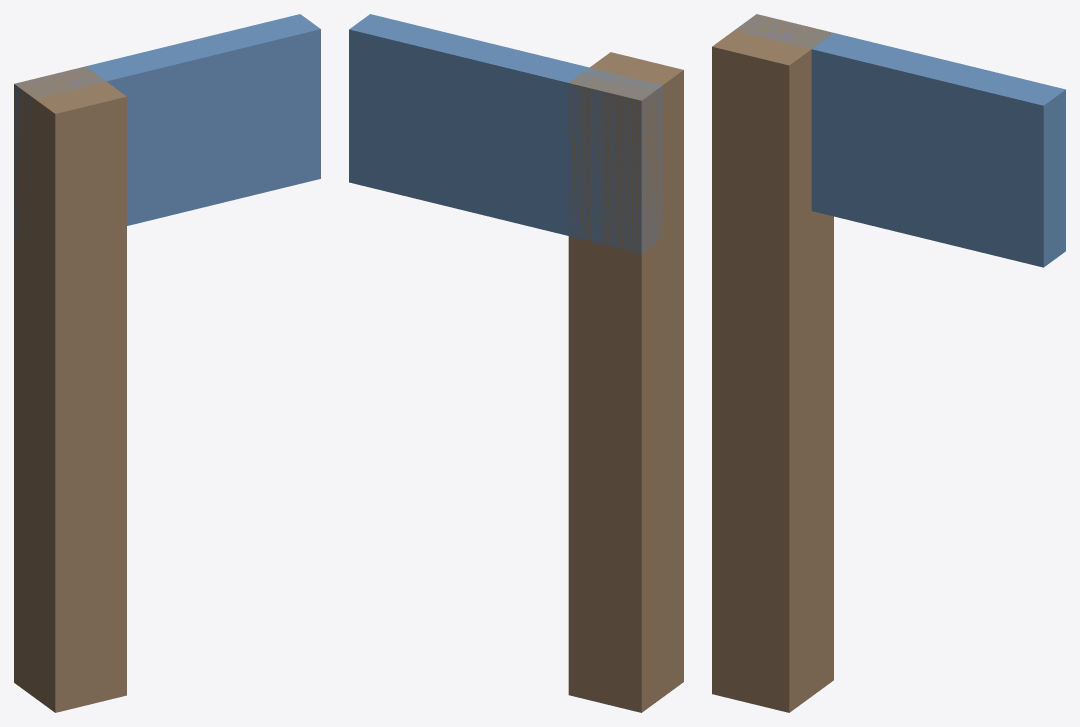
File: prop_sign_post.glb
3 renders of one model, left to right at view 1: azimuth 30°, elevation 25°; view 2: azimuth 150°, elevation 25°; view 3: azimuth 330°, elevation 25°, orthographic. The views are drawn at different scales.
Visible parts, largest first — view 1: prop_sign_post-col; view 2: prop_sign_post-col; view 3: prop_sign_post-col.
Boxes of the visible parts, bbox=[...] form: prop_sign_post-col: bbox=[14, 14, 320, 712]; prop_sign_post-col: bbox=[349, 14, 683, 712]; prop_sign_post-col: bbox=[712, 14, 1065, 712].
Size of the model in its own units: 1 by 2 by 0.25.
